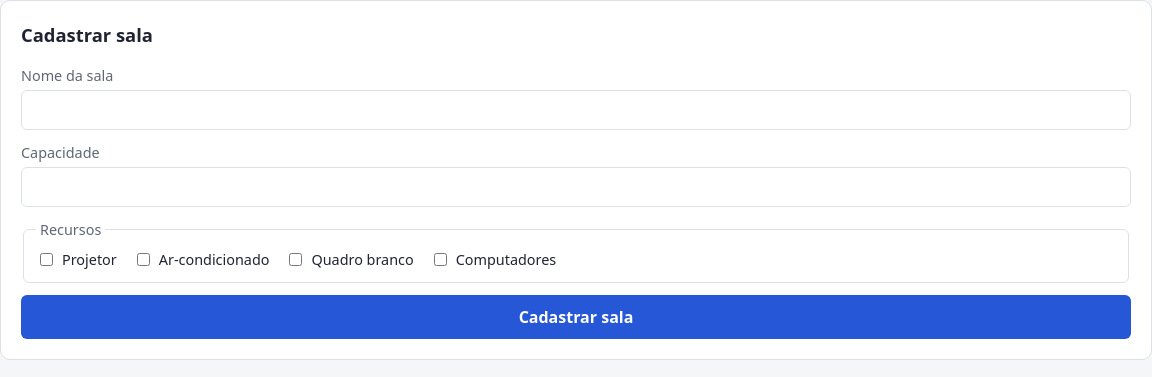
RoomForm › limpa o formulário após cadastrar a sala
The image size is (1152, 377).
Type "Sala 101" into the field labelled "Nome da sala".
click(576, 110); type("Sala 101")  # box [21,90,1131,130]
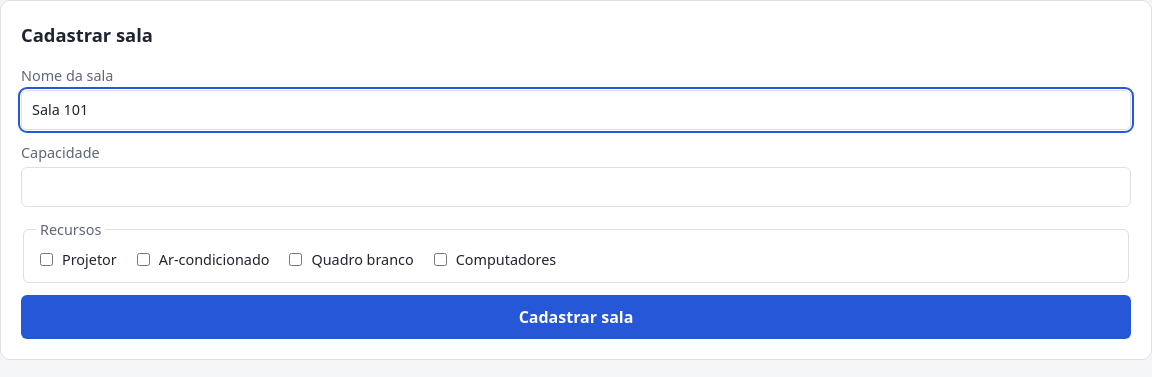
Type "30" into the number field labelled "Capacidade".
click(576, 187); type("30")  # box [21,167,1131,207]
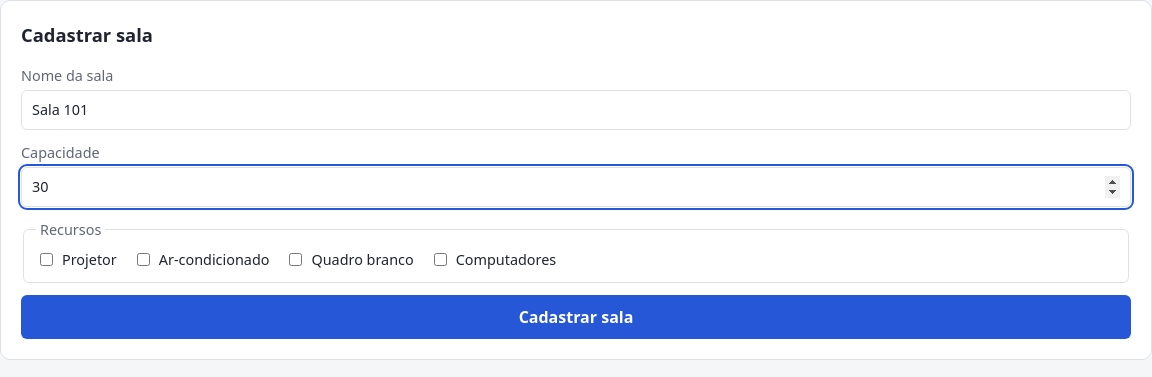
Click the checkbox labelled "Projetor".
click(46, 259)  # box [40,253,53,266]
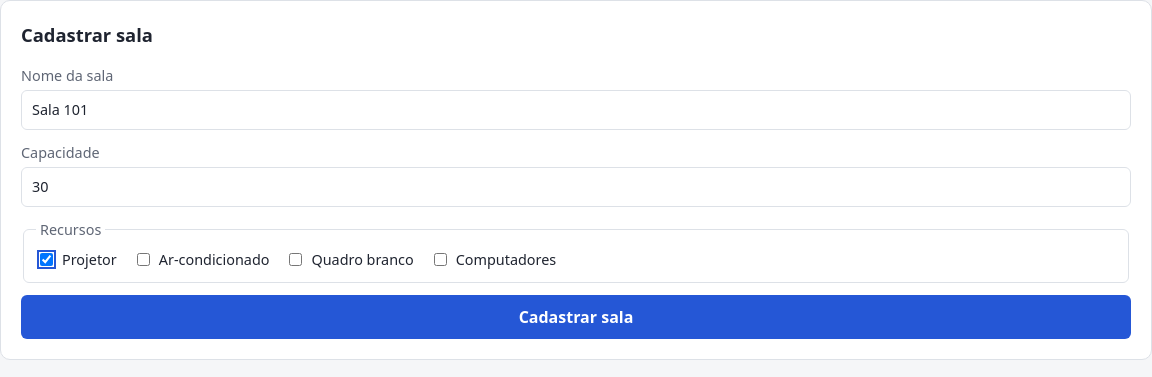
Click the button "Cadastrar sala".
click(576, 317)  # box [21,295,1131,339]
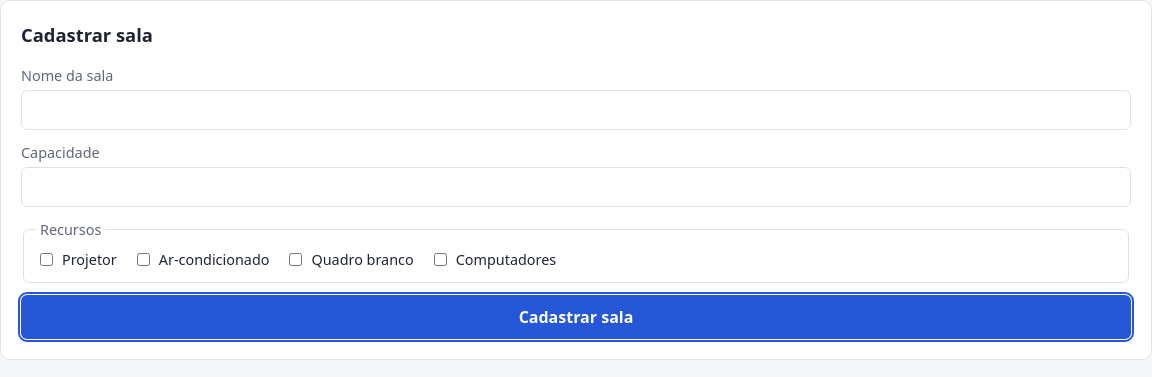
Now the checkbox labelled "Projetor" is not checked, box [40,253,53,266]
Now the field labelled "Nome da sala" is empty, box [21,90,1131,130]
Now the number field labelled "Capacidade" is not empty, box [21,167,1131,207]
